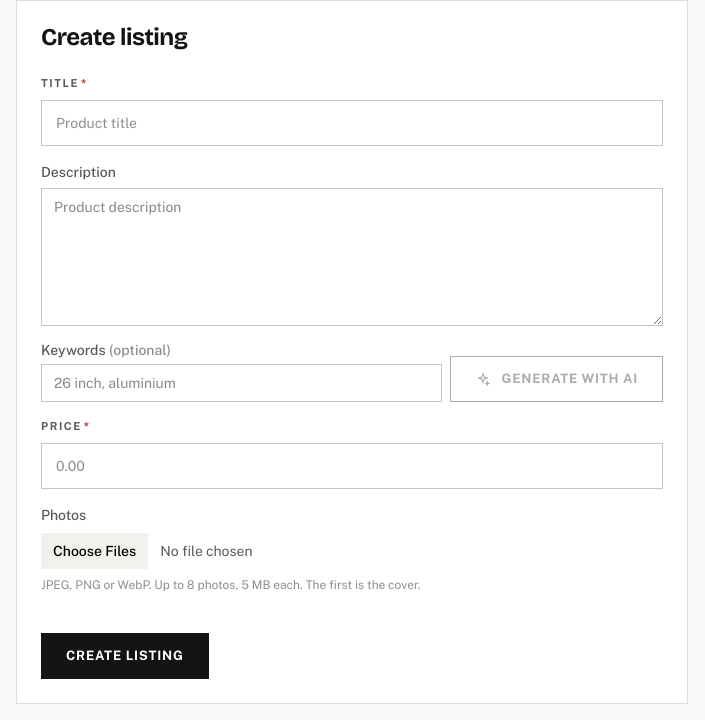
C2C-AI-6 — AC1: the generated text lands in the form › AC1: fills the description field
Type "Mountain bike" into the field labelled "Title*" at x=352, y=123, box [41,100,663,146]
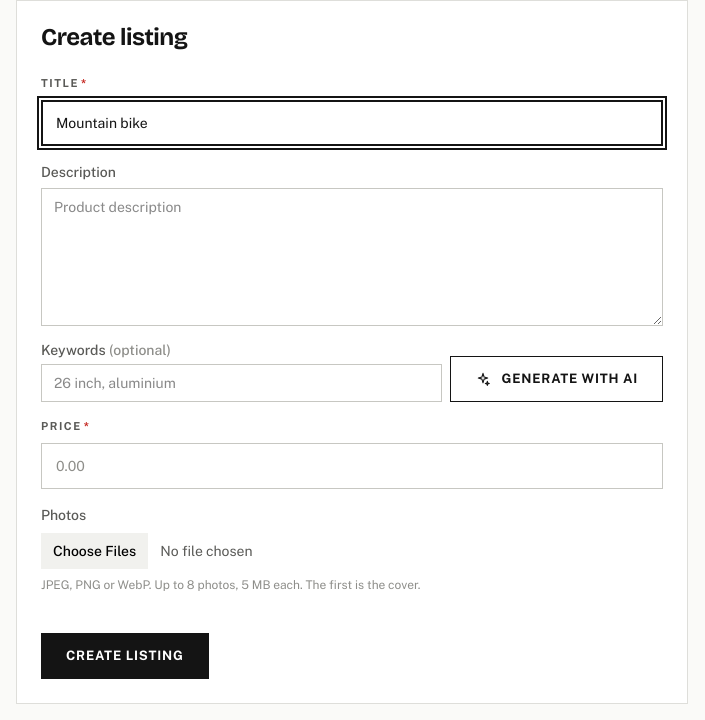
Click the button "Generate with AI" at x=557, y=379, box [450,356,663,402]
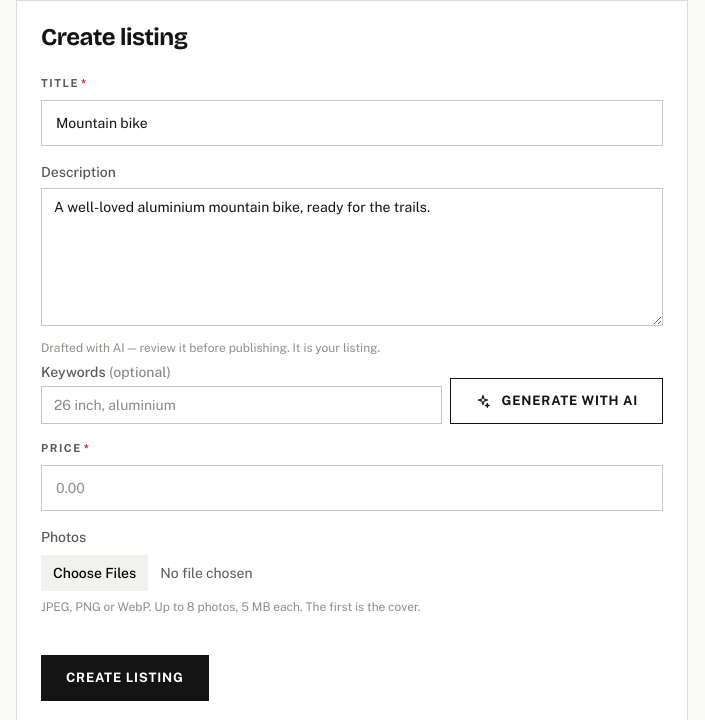
Now the text box labelled "Description" holds "A well-loved aluminium mountain bike, ready for the trails.", box [41,188,663,326]
